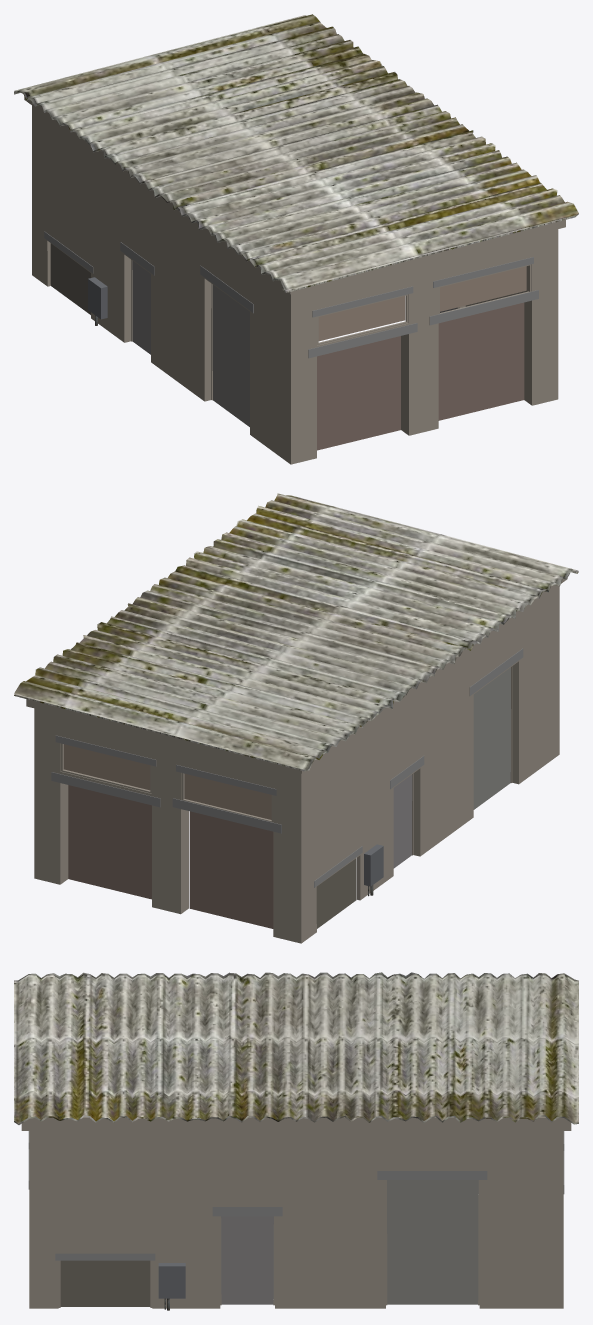
File: garage.walls-v1.lod0.glb
3 renders of one model, top to bottom at view 1: azimuth 30°, elevation 25°; view 2: azimuth 150°, elevation 25°; view 3: azimuth 270°, elevation 25°, orthographic. The views are drawn at different scales.
Parts seen in each view (by area): view 1: Box001_Material #2100603827_0, Box001_Material #2100603824_0; view 2: Box001_Material #2100603827_0, Box001_Material #2100603824_0; view 3: Box001_Material #2100603827_0, Box001_Material #2100603824_0.
Boxes of the visible parts, x1,y1,x2,y2 form: Box001_Material #2100603827_0: (24, 97, 565, 464); Box001_Material #2100603824_0: (14, 14, 578, 292); Box001_Material #2100603827_0: (26, 578, 567, 943); Box001_Material #2100603824_0: (14, 493, 578, 771); Box001_Material #2100603827_0: (21, 1116, 571, 1308); Box001_Material #2100603824_0: (14, 972, 578, 1124).
Bounding box in the file's own units: 5.07 × 3.11 × 8.
3 materials, 2 textured.
